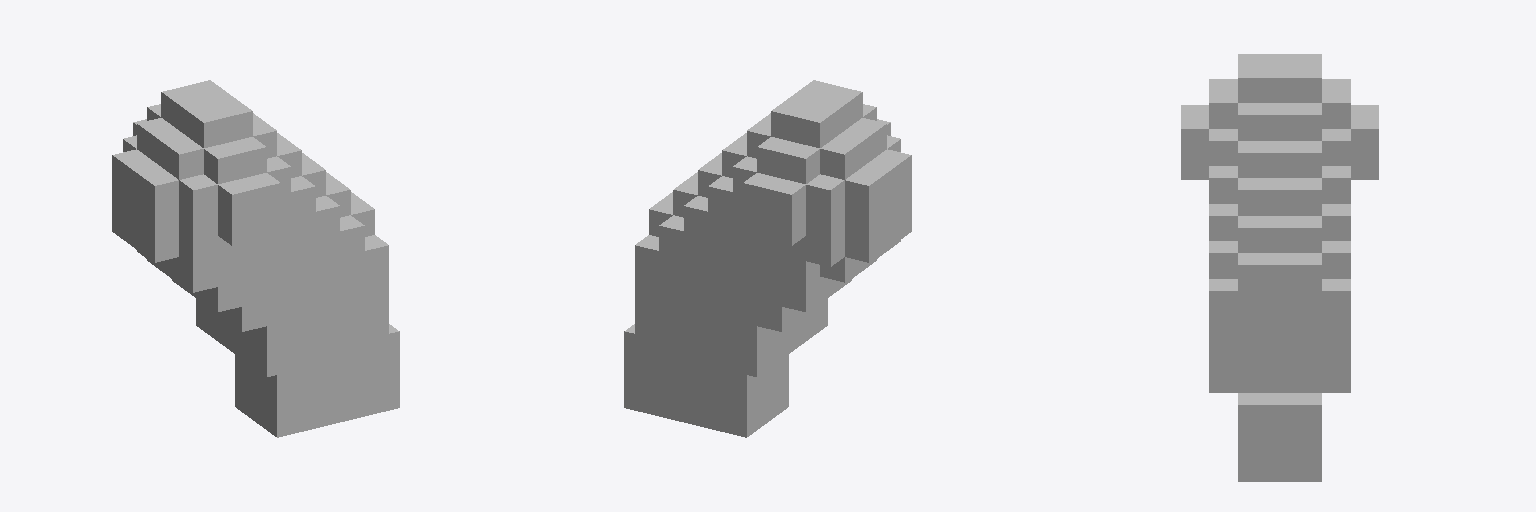
File: GroundEnemyHead.obj
3 views of the same model, side by side, from view 1: azimuth 30°, elevation 25°; view 2: azimuth 150°, elevation 25°; view 3: azimuth 270°, elevation 25° (orthographic).
Bounding box in the file's own units: 10 × 13 × 7.